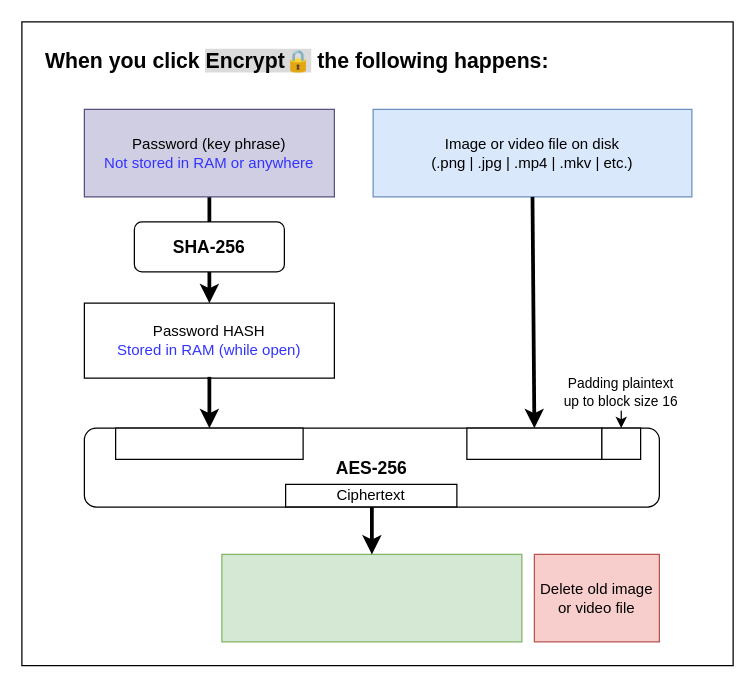
The diagram is 755 pixels wide and 688 high, and some of its shapes have lost their labels. Here are the shapes that lost their labels. From the top down, the box of each, then its label:
(114, 427, 303, 459): Cryptographic key
(466, 427, 602, 459): Plaintext
(601, 427, 641, 459): Pad
(221, 553, 522, 642): Encrypted image or video file on disk with added extension (.aes)
